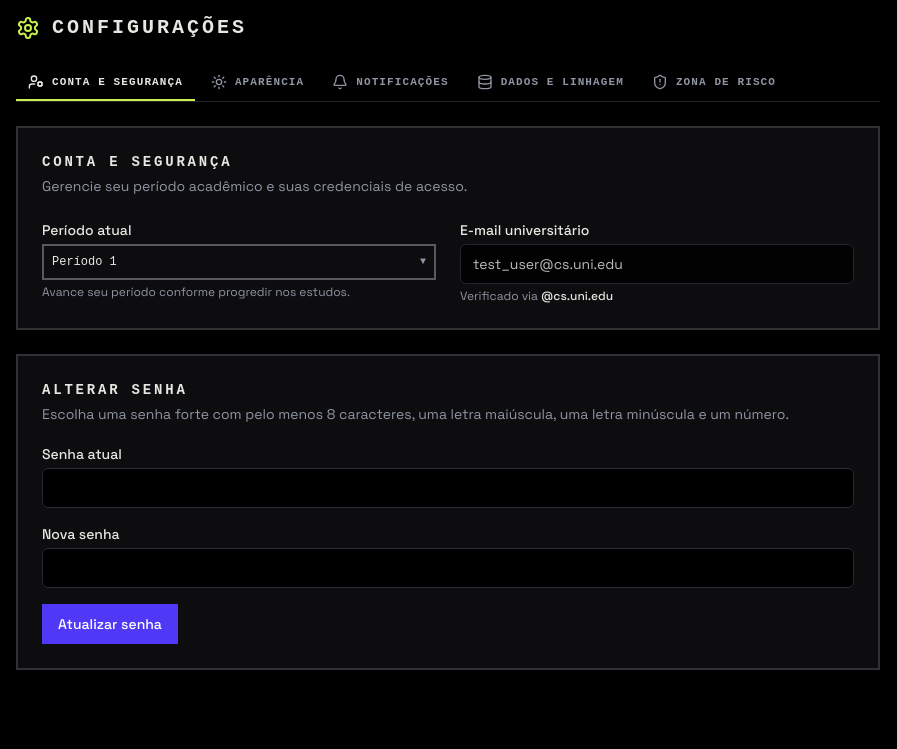
Test: SettingsPage › submits the change-password form on the account tab
Type "OldPassword123!" into the password field labelled "Senha atual" at (448, 488), box [42,468,854,508]
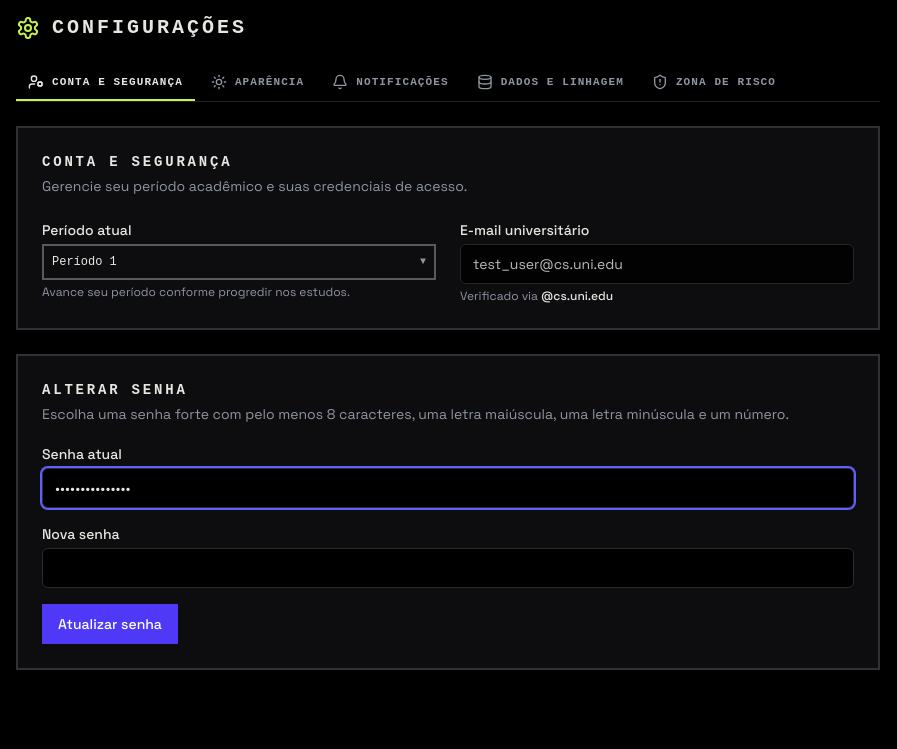
Type "NewPassword123!" into the password field labelled "Nova senha" at (448, 568), box [42,548,854,588]
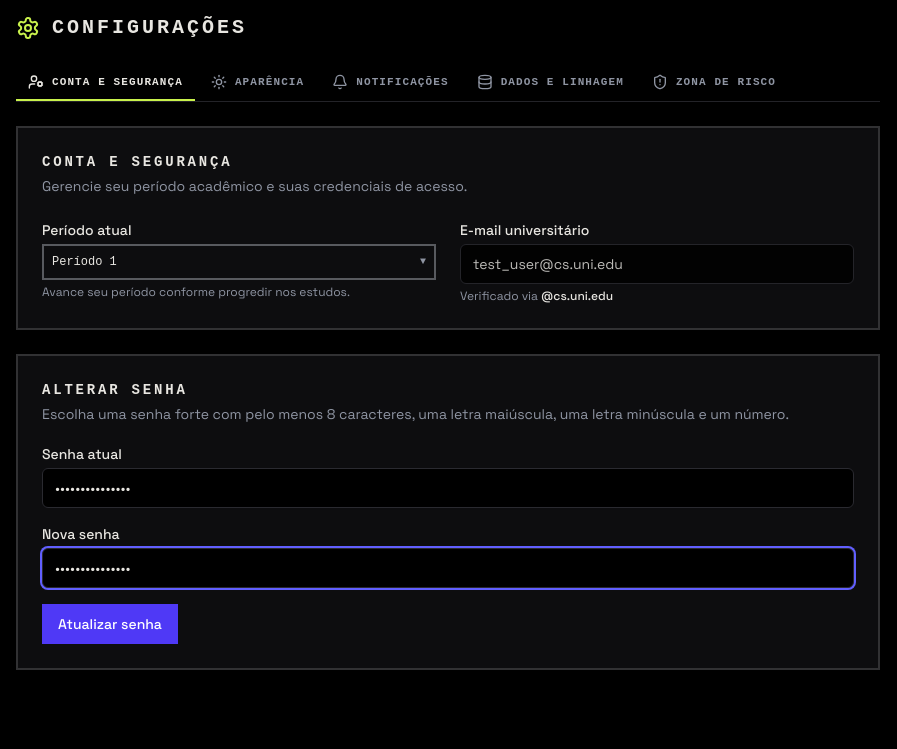
Click the button "Atualizar senha" at (110, 624), box [42,604,178,644]
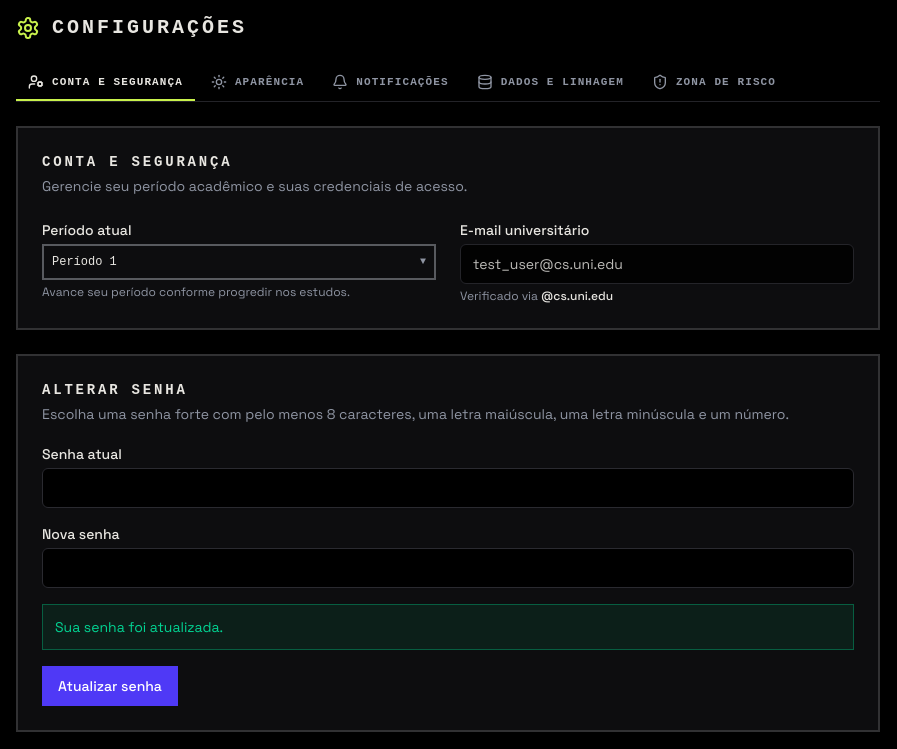
Expected: the text "Sua senha foi atualizada." is shown, [42,604,854,650]
